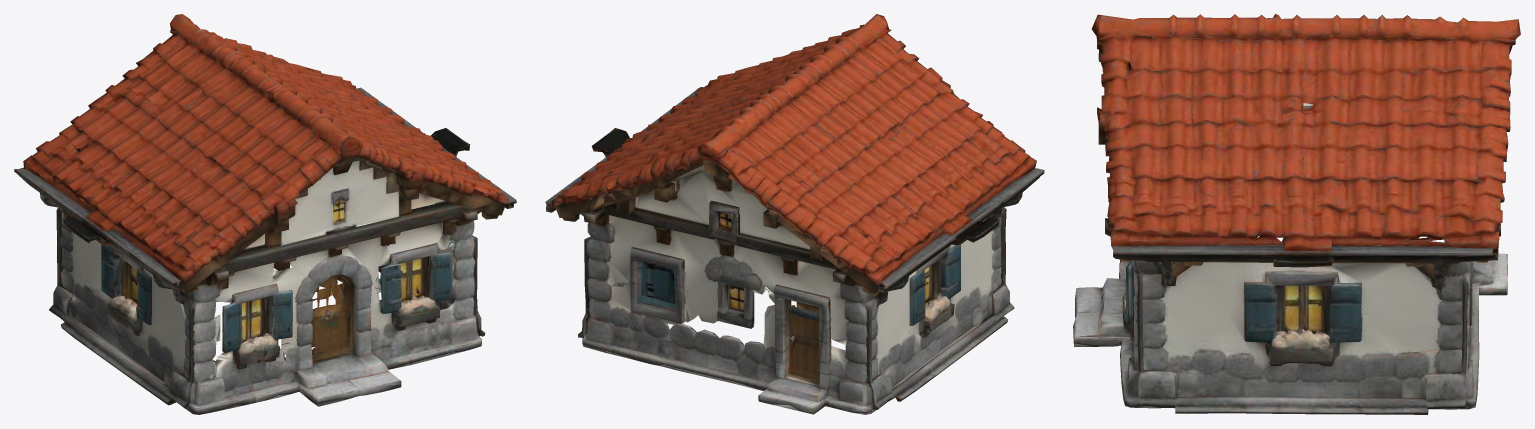
The model's file is candidate.glb.
3 renders of one model, left to right at view 1: azimuth 30°, elevation 25°; view 2: azimuth 150°, elevation 25°; view 3: azimuth 270°, elevation 25°, orthographic. The views are drawn at different scales.
Parts seen in each view (by area): view 1: alpine__tower_1__native_mobile; view 2: alpine__tower_1__native_mobile; view 3: alpine__tower_1__native_mobile.
Boxes of the visible parts, x1,y1,x2,y2 form: alpine__tower_1__native_mobile: (14,14,516,414); alpine__tower_1__native_mobile: (545,14,1044,414); alpine__tower_1__native_mobile: (1073,14,1520,414).
Size of the model in its own units: 1 by 0.632 by 0.8306.
Materials: 1 (1 with a texture image).
